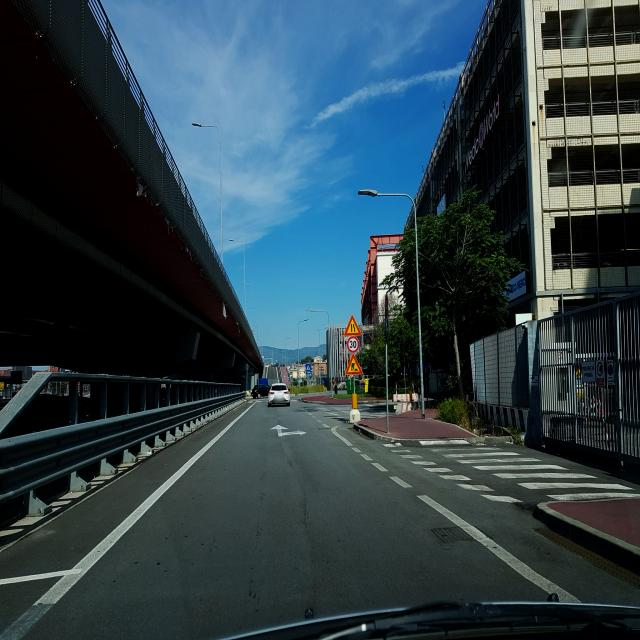car: (268, 382, 290, 407), (250, 384, 270, 399)
